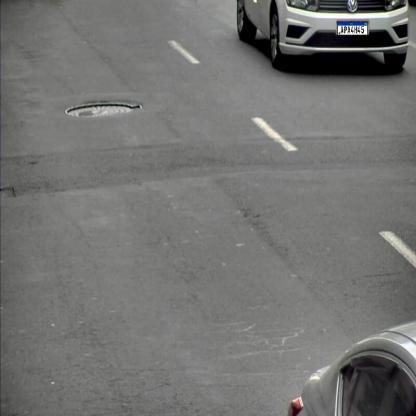PlacaM: (338, 22, 368, 36)
